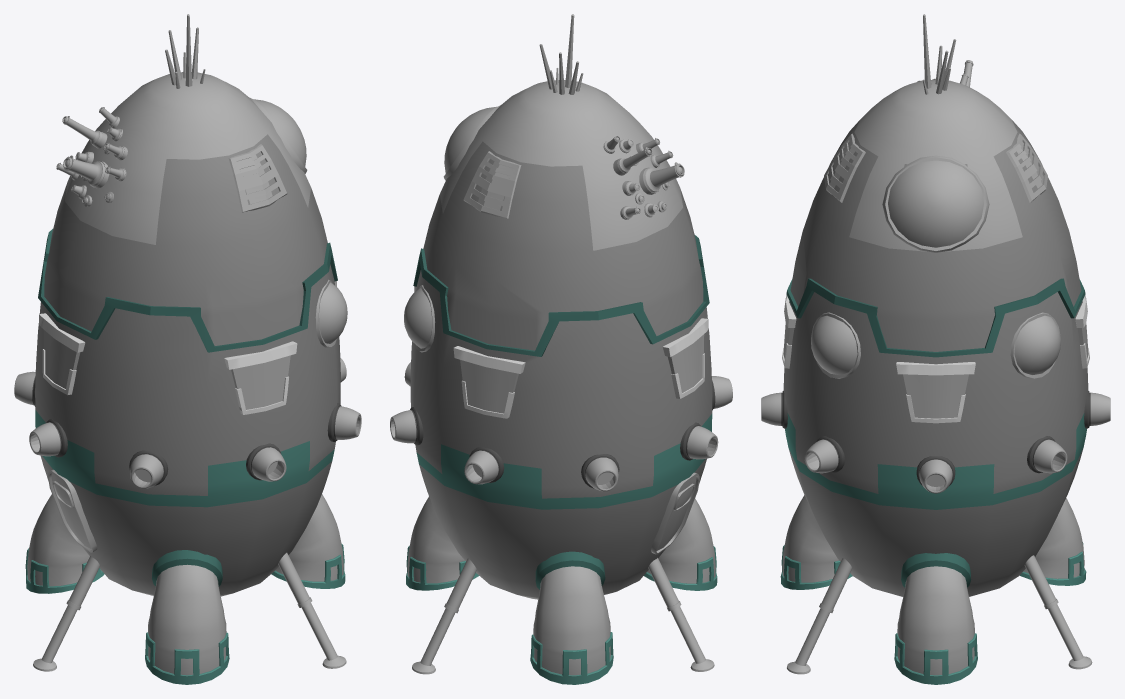
File: Vaisseau.fbx
The picture shows the model from 3 angles, left to right: view 1: azimuth 30°, elevation 25°; view 2: azimuth 150°, elevation 25°; view 3: azimuth 270°, elevation 25°; orthographic projection.
Parts seen in each view (by area): view 1: Fusee_base, Reacteur_02, Reacteur_03, ornement_tour_fusee, Reacteur_01, aileron_01, aeration_01, aileron_02, trepied_03, trepied_01, Porte, pSphere72 (+9 smaller); view 2: Fusee_base, Reacteur_03, ornement_tour_fusee, Reacteur_01, Reacteur_02, aileron_04, aeration_02, aileron_02, trepied_02, trepied_01, Porte, pSphere72 (+8 smaller); view 3: Fusee_base, Reacteur_01, pSphere71, pSphere72 (×2), aileron_03, ornement_tour_fusee, Reacteur_02, Reacteur_03, trepied_03, trepied_02, pPipe1, aeration_02 (+9 smaller).
Part boxes in pixels (x1,y1,x2,y2): Fusee_base: (35,72,340,596); Reacteur_02: (145,550,229,684); Reacteur_03: (25,494,104,593); ornement_tour_fusee: (38,229,337,352); Reacteur_01: (271,494,345,588); aileron_01: (224,341,297,414); aeration_01: (228,144,287,212); aileron_02: (39,313,85,394); trepied_03: (278,552,346,668); trepied_01: (33,556,99,671); Porte: (48,469,97,552); pSphere72: (319,282,347,343); Fusee_base: (410,80,712,599); Reacteur_03: (530,551,613,684); ornement_tour_fusee: (413,234,709,356); Reacteur_01: (406,496,478,590); Reacteur_02: (644,498,717,590); aileron_04: (453,346,525,418); aeration_02: (463,151,521,218); aileron_02: (663,318,708,398); trepied_02: (412,558,476,674); trepied_01: (648,558,714,671); Porte: (651,472,699,554); pSphere72: (404,288,431,348); Fusee_base: (783,79,1088,596); Reacteur_01: (894,553,977,684); pSphere71: (888,160,983,247); pSphere72 (×2): (811,315,1060,375); aileron_03: (896,362,975,423); ornement_tour_fusee: (786,278,1085,357); Reacteur_02: (780,495,852,589); Reacteur_03: (1020,498,1086,585); trepied_03: (787,558,852,674); trepied_02: (1024,555,1092,669); pPipe1: (882,155,989,252); aeration_02: (1006,133,1047,202).
Size of the model in its own units: 735 by 1427 by 735.
